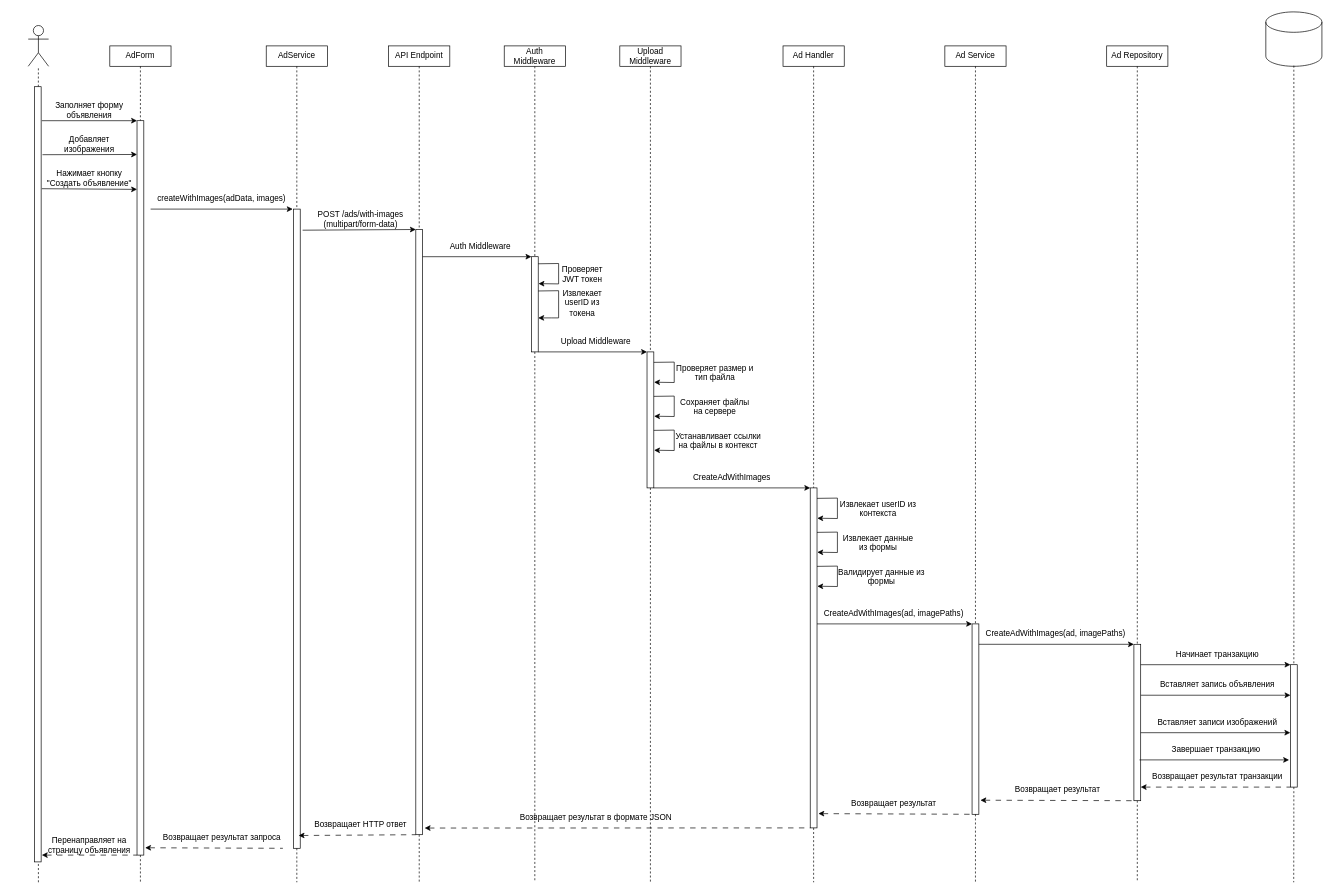
The diagram is 1334 pixels wide and 895 high, and some of its shapes have lost their labels. The centre of each missing label's shape, as x and y in pixels:
"PostgreSQL" belongs at [1293,38].
"Пользователь" belongs at [38,45].
